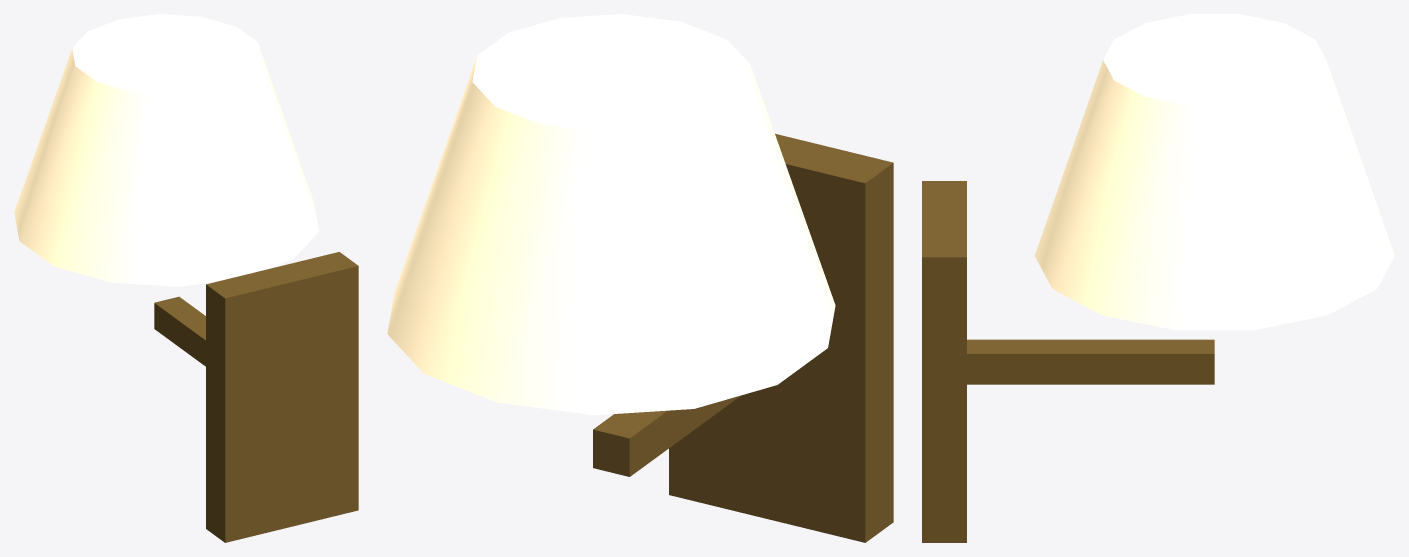
Rendered from sconce.glb.
3 views of the same model, side by side, from view 1: azimuth 30°, elevation 25°; view 2: azimuth 150°, elevation 25°; view 3: azimuth 270°, elevation 25° (orthographic). The views are drawn at different scales.
Parts seen in each view (by area): view 1: sconce; view 2: sconce; view 3: sconce.
Boxes of the visible parts, x1,y1,x2,y2 form: sconce: [14, 14, 358, 542]; sconce: [387, 14, 893, 542]; sconce: [922, 14, 1394, 542].
Bounding box in the file's own units: 0.156 × 0.218 × 0.21.
